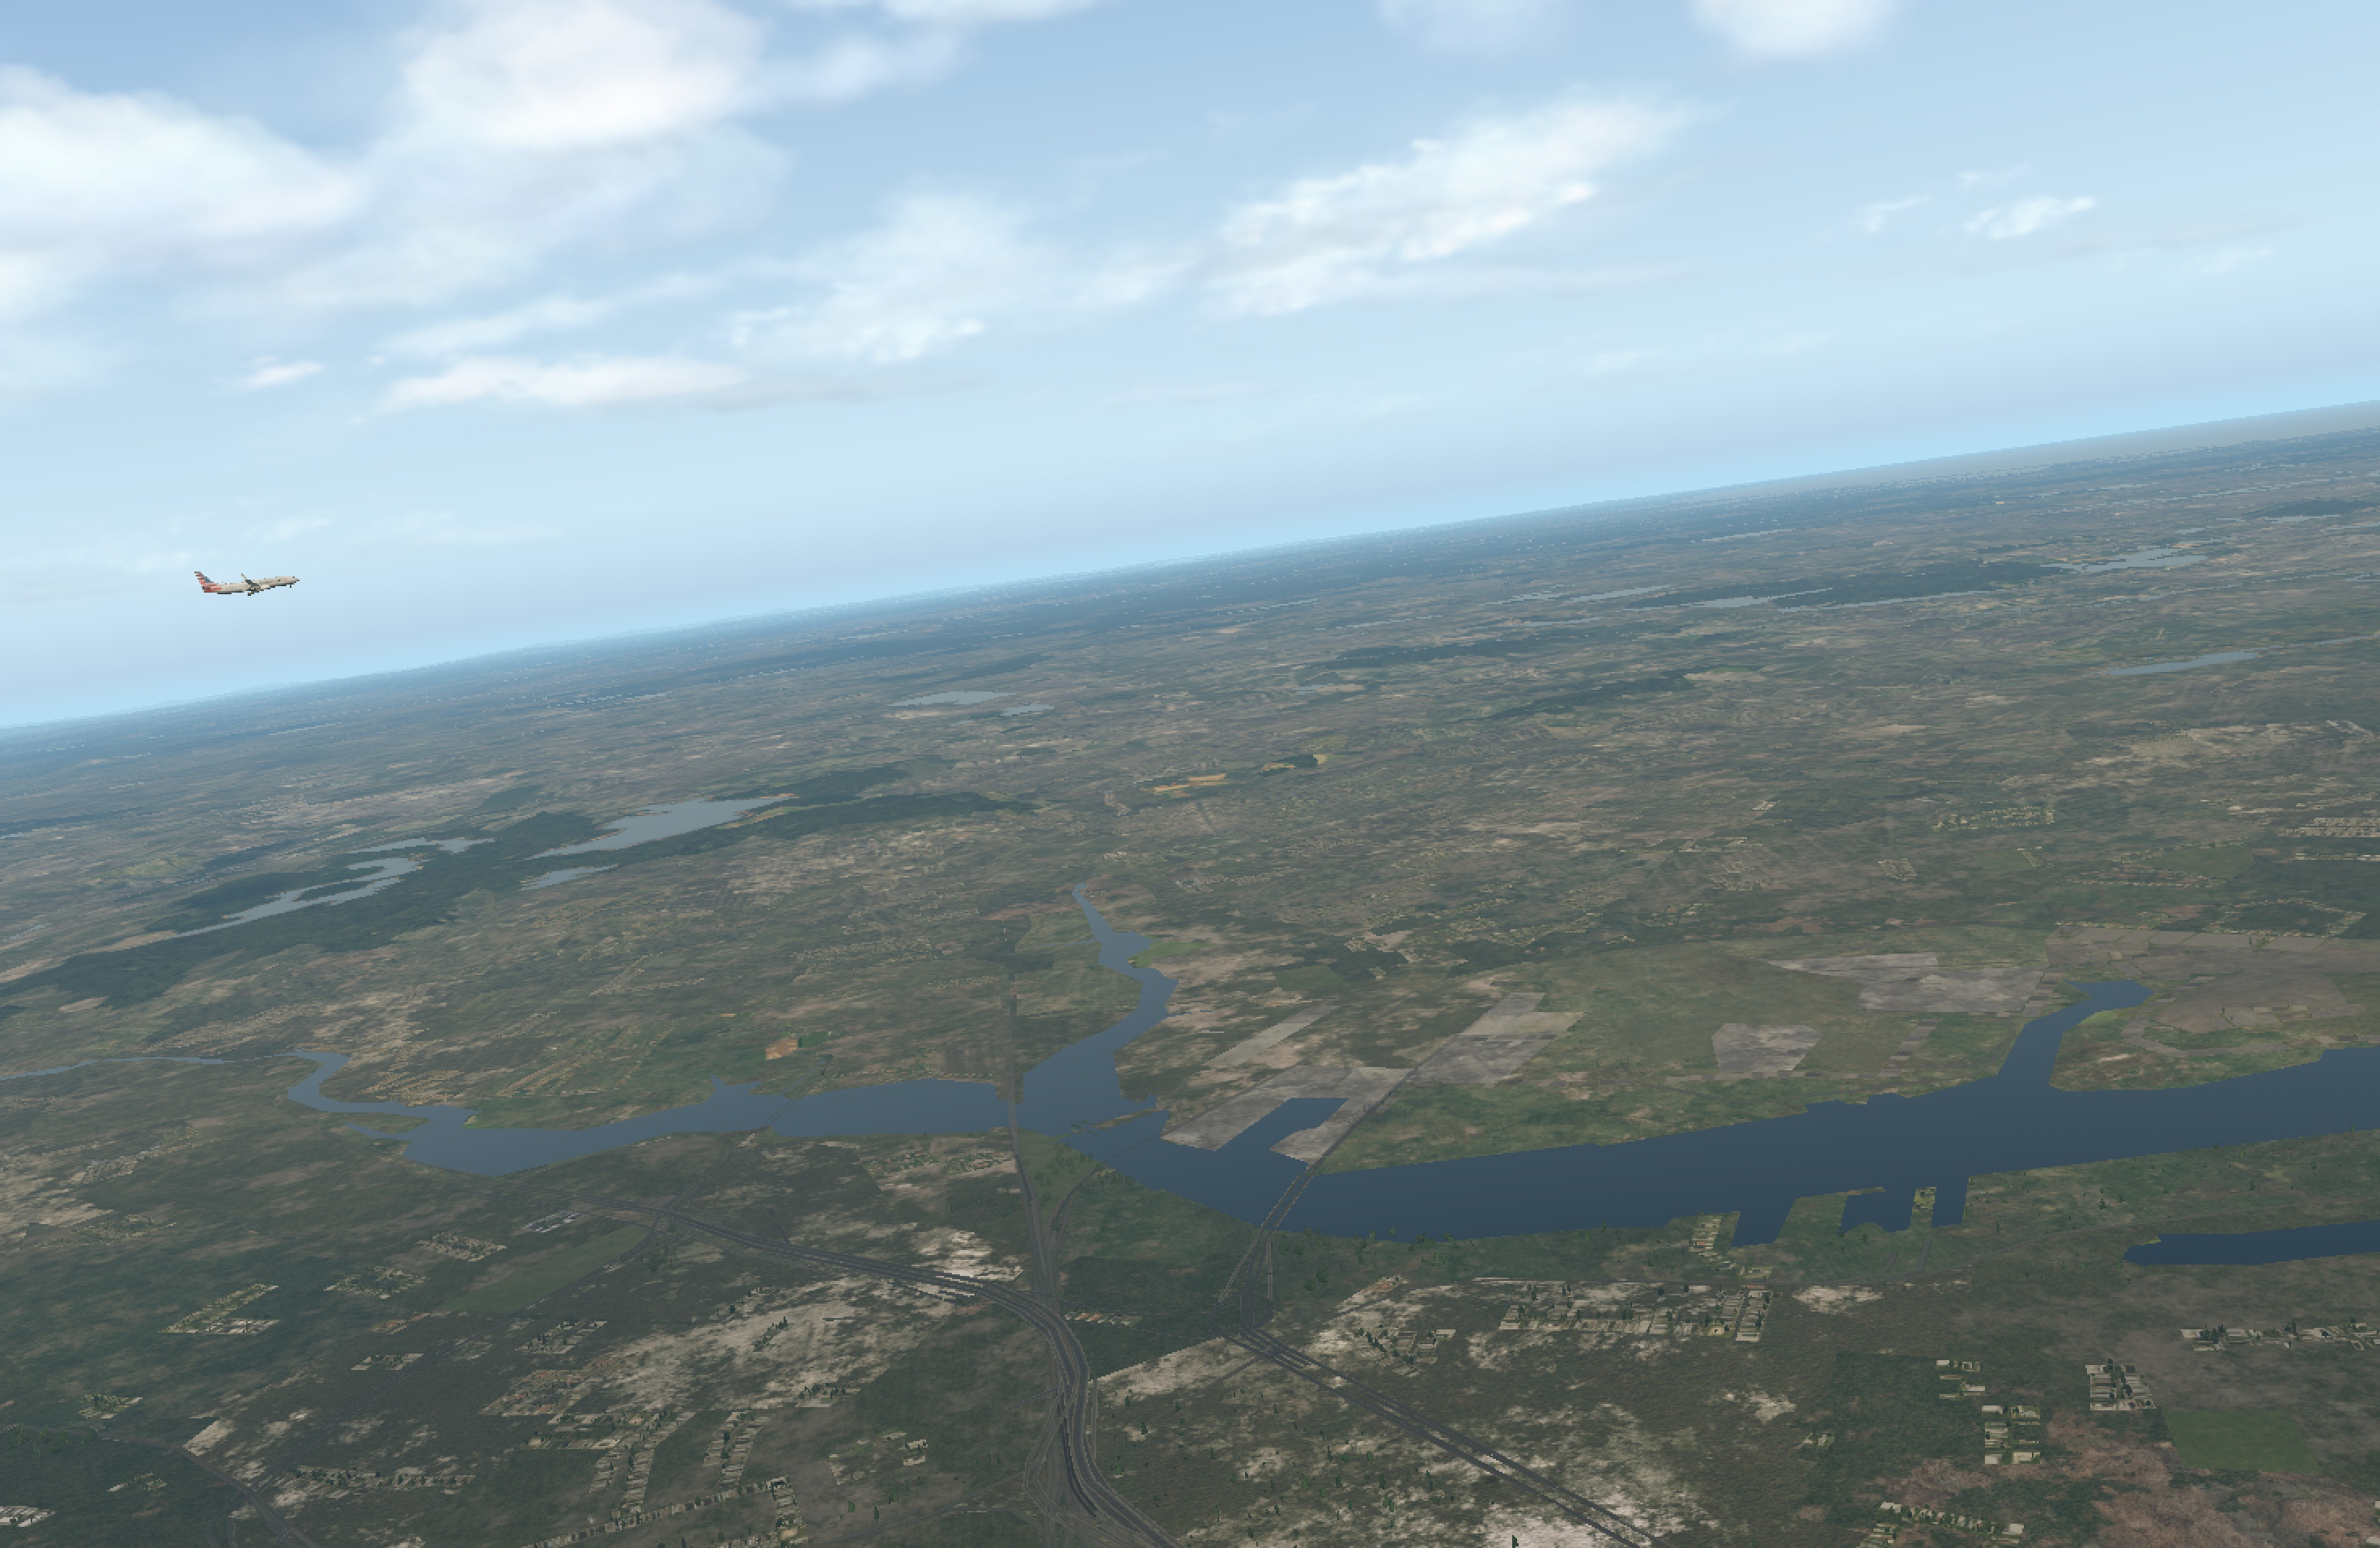aircraft: (210, 571, 297, 604)
